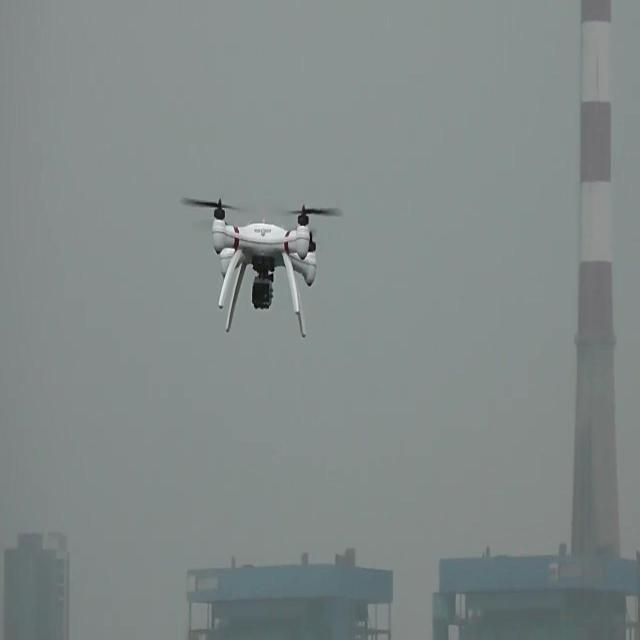drone: (210, 200, 321, 342)
